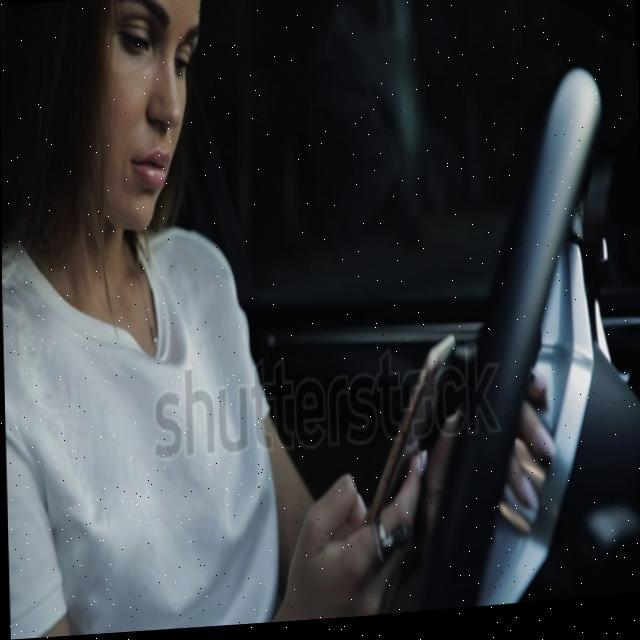PhoneCall: (352, 340, 462, 540)
